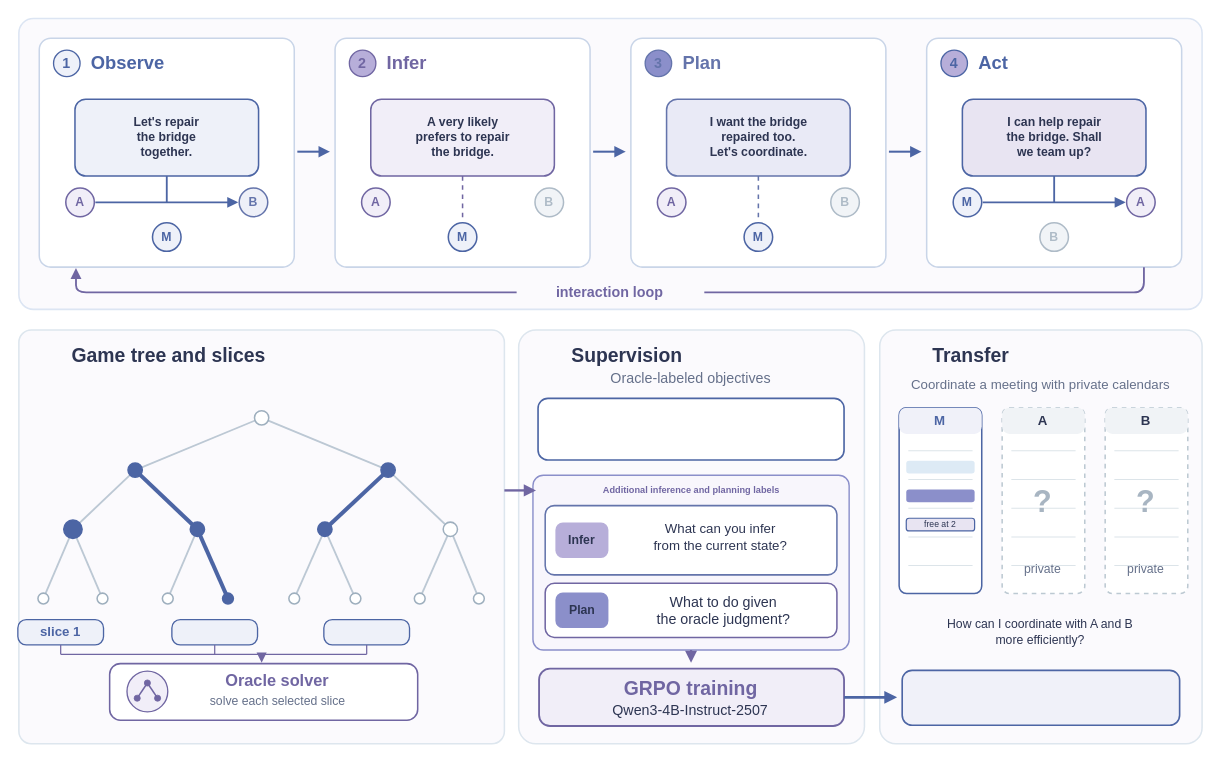
Image size: 1224x762. Some labels were removed from this diagram. The shapes that lost their labels are listed below. From the top down, each one's box as (x1, y1, x2, y2) in pixels, then its label:
(537, 397, 844, 460): What to do given the current state?
(171, 619, 258, 645): slice 2
(323, 619, 410, 645): slice 3
(901, 669, 1180, 726): Transfer evaluation
